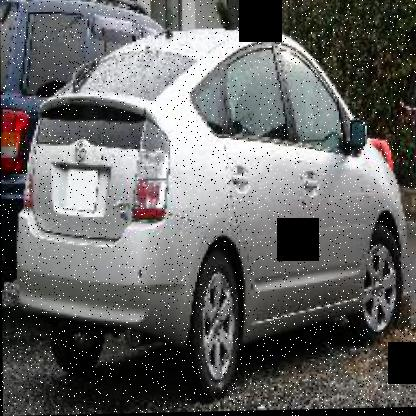not_emergency: (19, 15, 411, 390)
